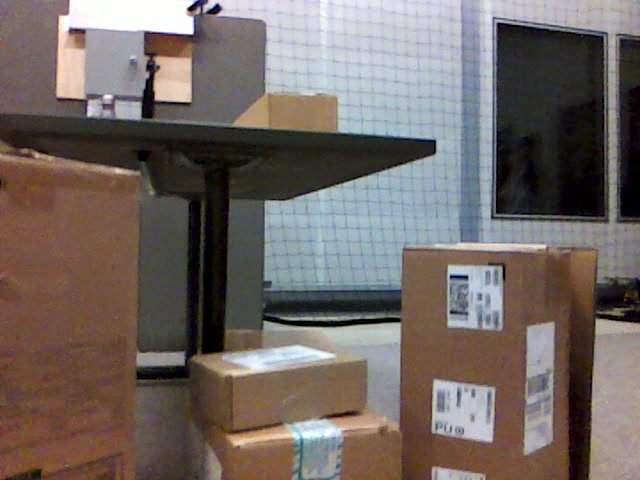box: (403, 243, 593, 480), (1, 155, 136, 480), (191, 404, 403, 480), (191, 345, 367, 423), (234, 94, 338, 131)
